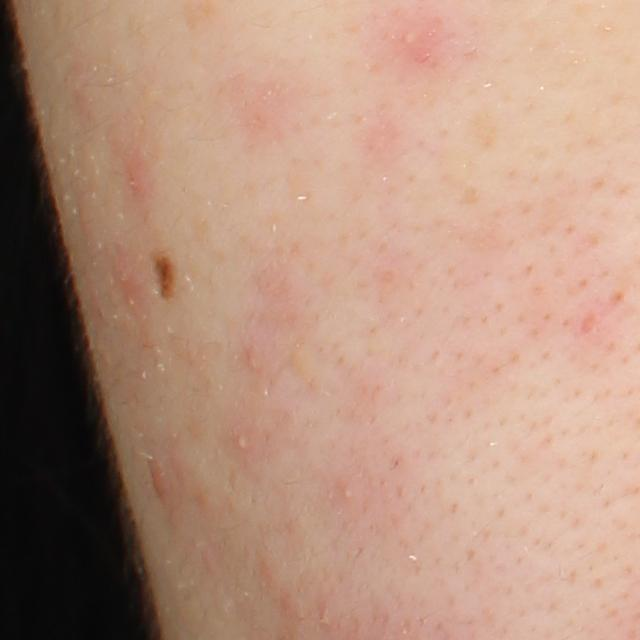comedo: (342, 488, 354, 499)
nevus: (152, 250, 179, 305)
papule: (147, 452, 170, 500)
